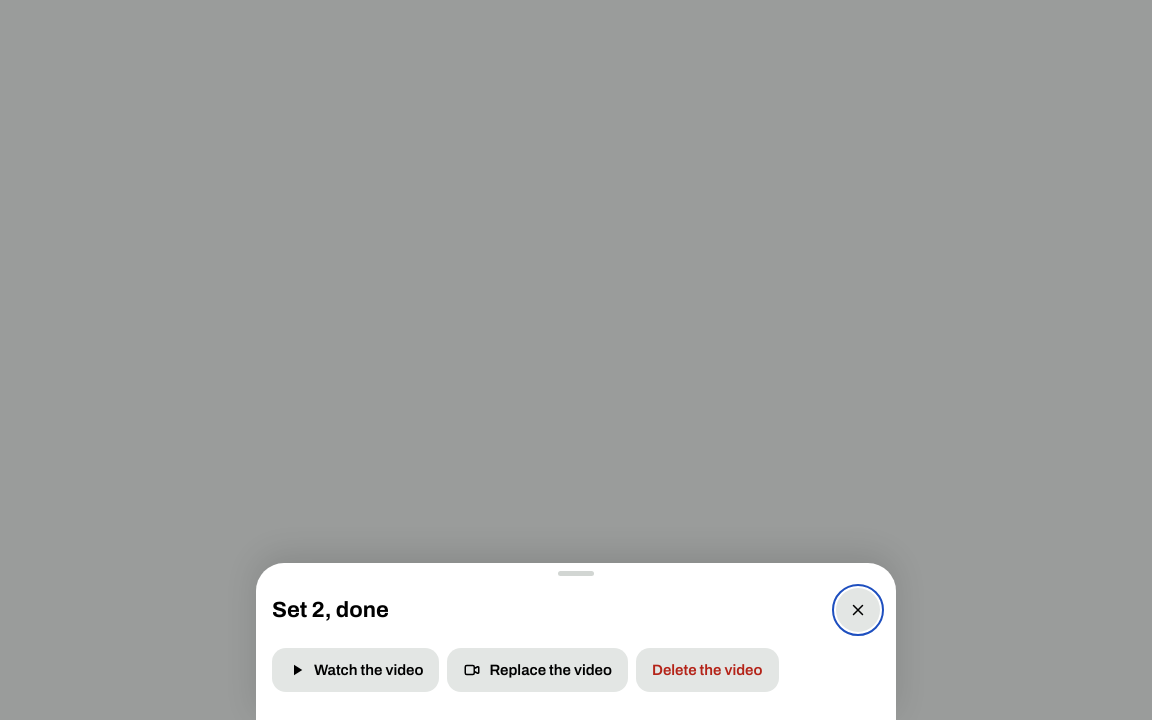
Test: <VideoUploadButton /> — watching the video › opened from a sheet, the player is drawn inside that sheet
Click the button "Watch the video".
click(356, 670)  # box [272,648,440,692]
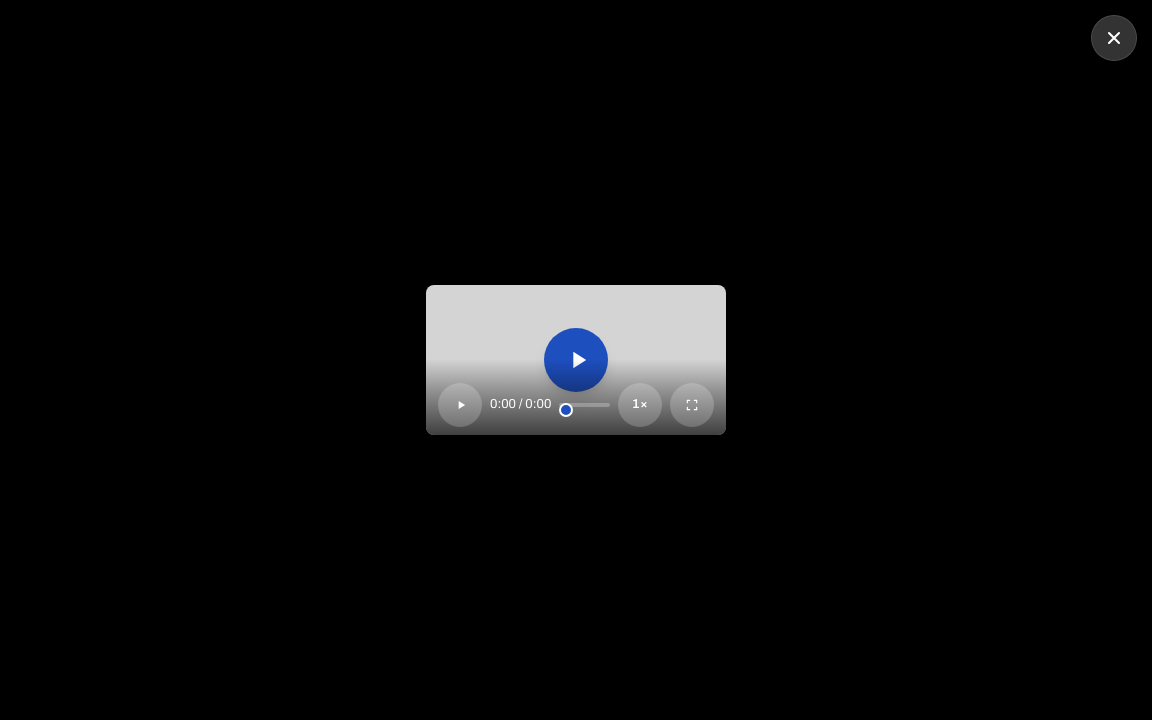
Check: the dialog is shown
Check: the button named "Close" is shown
# Closing the player leaves the sheet open, on the set.
Click the button named "Close".
click(1114, 38)  # box [1092,16,1136,60]
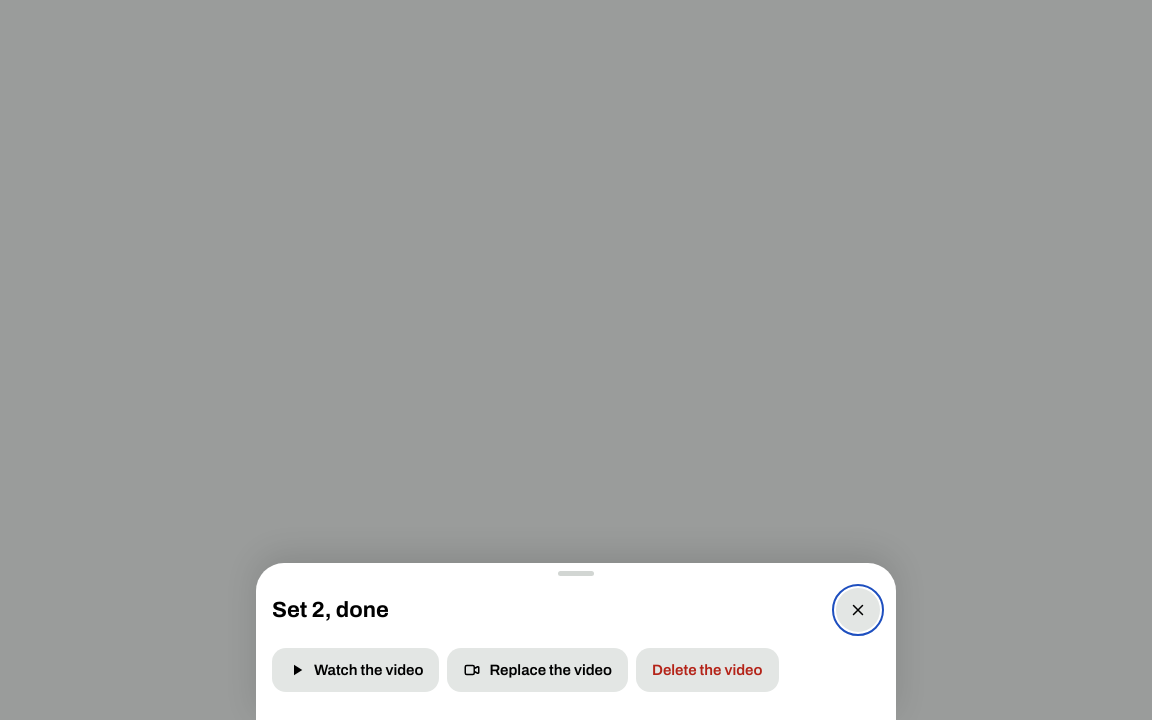
Check: the dialog "Set 2, done" is shown, box [256,563,896,719]
Check: the dialog is gone
